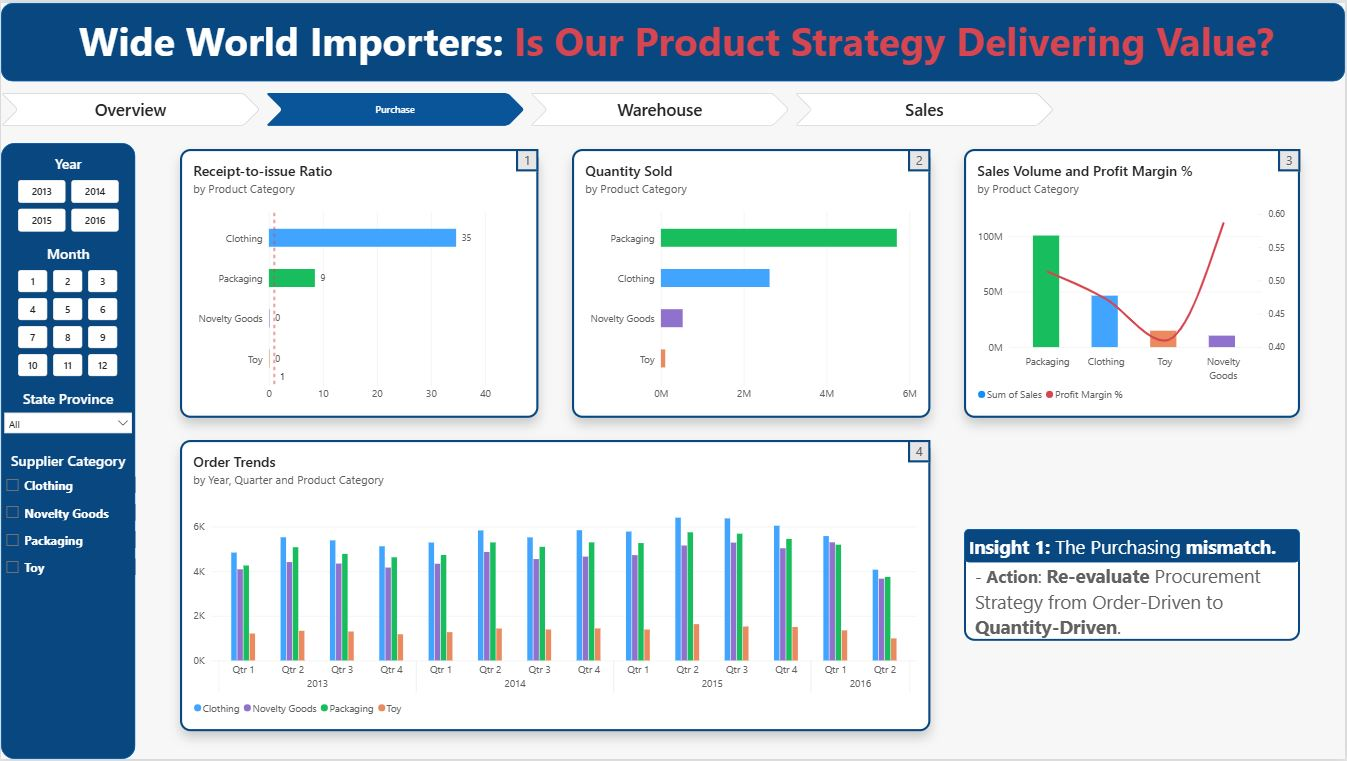

Layout of this report page (visuals, bound fields, positions):
{"tool":"powerbi","page":{"name":"Purchase","canvas":[1920,1080],"ordinal":1},"visuals":[{"type":"shape","box":[0,200,192,880],"z":0},{"type":"advancedSlicerVisual","title":"Year","fields":{"Values":["Calendar.Date.Variation.Date Hierarchy.Year"]},"box":[24,216,144,112],"z":1000},{"type":"advancedSlicerVisual","title":"Month","fields":{"Values":["Calendar.MonthNo"]},"box":[24,344,144,192],"z":2000},{"type":"slicer","title":"State Province","fields":{"Values":["Application StateProvinces.StateProvinceName"]},"box":[0,552,192,64],"z":3000},{"type":"slicer","title":"Supplier Category","fields":{"Values":["Purchasing SupplierCategories.ProductCategoryName"]},"box":[0,640,192,208],"z":4000},{"type":"barChart","title":"Quantity Sold","fields":{"Category":["Purchasing SupplierCategories.ProductCategoryName"],"Y":["Sum(FactSalesOrders.Quantity)"]},"box":[816,208,512,384],"z":5000},{"type":"shape","box":[0,0,1920,112],"z":6000},{"type":"lineStackedColumnComboChart","title":"Sales Volume and Profit Margin %","fields":{"Category":["Purchasing SupplierCategories.ProductCategoryName"],"Y":["Sum(FactSalesInvoices.Sales)"],"Y2":["*Measure.Profit Margin %"]},"box":[1376,208,480,384],"z":6000,"group":"g2"},{"type":"textbox","box":[112,16,1712,96],"z":7000},{"type":"barChart","title":"Receipt-to-issue Ratio","fields":{"Category":["Purchasing SupplierCategories.ProductCategoryName"],"Y":["*Measure.Receipt-to-issue Ratio 2"]},"box":[256,208,512,384],"z":7000,"group":"g1"},{"type":"group","id":"g1","title":"Group 2","box":[256,208,512,384],"z":8000},{"type":"clusteredColumnChart","title":"Order Trends","fields":{"Category":["Calendar.Date.Variation.Date Hierarchy.Year","Calendar.Date.Variation.Date Hierarchy.Quarter"],"Series":["Purchasing SupplierCategories.ProductCategoryName"],"Y":["CountNonNull(FactSalesOrders.OrderID)"]},"box":[256,624,1072,416],"z":8000,"group":"g3"},{"type":"group","id":"g2","title":"Group 4","box":[1376,208,480,384],"z":9000},{"type":"group","id":"g3","title":"Group 5","box":[256,624,1072,416],"z":10000},{"type":"pageNavigator","box":[0,128,1504,48],"z":11000},{"type":"textbox","box":[1296,208,32,32],"z":12000},{"type":"group","id":"g4","title":"Group 1","box":[1376,752,480,160],"z":13000},{"type":"shape","box":[1376,768,480,144],"z":16000,"group":"g4"},{"type":"textbox","box":[736,208,32,32],"z":17000,"group":"g1"},{"type":"shape","box":[1376,752,480,48],"z":17000,"group":"g4"},{"type":"textbox","box":[1382.6,759.7,464,48],"z":18000,"group":"g4"},{"type":"textbox","box":[1824,208,32,32],"z":18001,"group":"g2"},{"type":"textbox","box":[1296,624,32,32],"z":18002,"group":"g3"},{"type":"textbox","box":[1392,800,448,112],"z":19000,"group":"g4"}]}

Visuals, with their boxes in screenshot pixels (x1, y1, x2, y2), scaled from the page's 1920x1080 canvas onto the 1347x761 screenshot:
shape: select_region(0, 141, 135, 760)
"Year" advancedSlicerVisual: select_region(17, 152, 118, 231)
"Month" advancedSlicerVisual: select_region(17, 242, 118, 378)
"State Province" slicer: select_region(0, 389, 135, 434)
"Supplier Category" slicer: select_region(0, 451, 135, 598)
"Quantity Sold" barChart: select_region(572, 147, 932, 417)
shape: select_region(0, 0, 1346, 79)
"Sales Volume and Profit Margin %" lineStackedColumnComboChart: select_region(965, 147, 1302, 417)
textbox: select_region(79, 11, 1280, 79)
"Receipt-to-issue Ratio" barChart: select_region(180, 147, 539, 417)
"Group 2" group: select_region(180, 147, 539, 417)
"Order Trends" clusteredColumnChart: select_region(180, 440, 932, 733)
"Group 4" group: select_region(965, 147, 1302, 417)
"Group 5" group: select_region(180, 440, 932, 733)
pageNavigator: select_region(0, 90, 1055, 124)
textbox: select_region(909, 147, 932, 169)
"Group 1" group: select_region(965, 530, 1302, 643)
shape: select_region(965, 541, 1302, 643)
textbox: select_region(516, 147, 539, 169)
shape: select_region(965, 530, 1302, 564)
textbox: select_region(970, 535, 1296, 569)
textbox: select_region(1280, 147, 1302, 169)
textbox: select_region(909, 440, 932, 462)
textbox: select_region(977, 564, 1291, 643)
